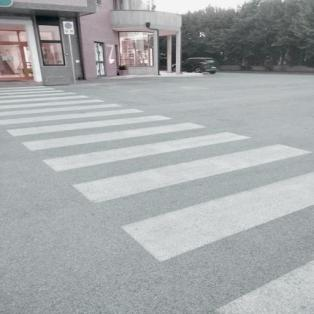Paso de Cebra: (37, 130, 314, 207)
